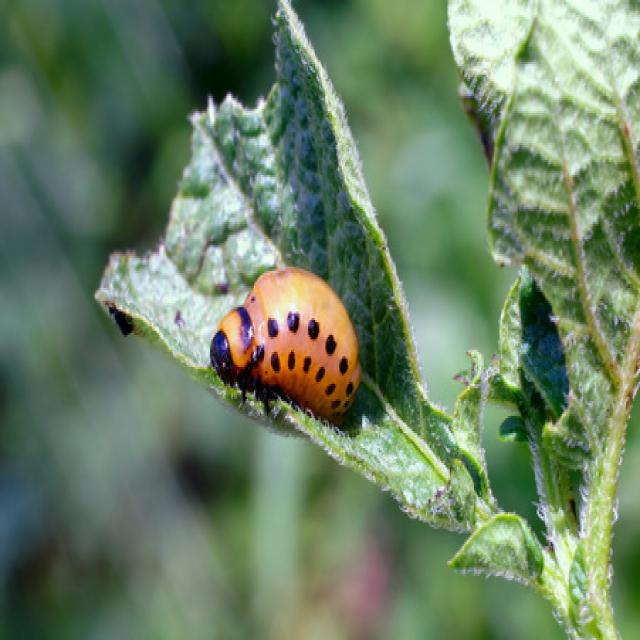ShuCaiHuaBanChong-Larva-: (204, 255, 368, 425)
